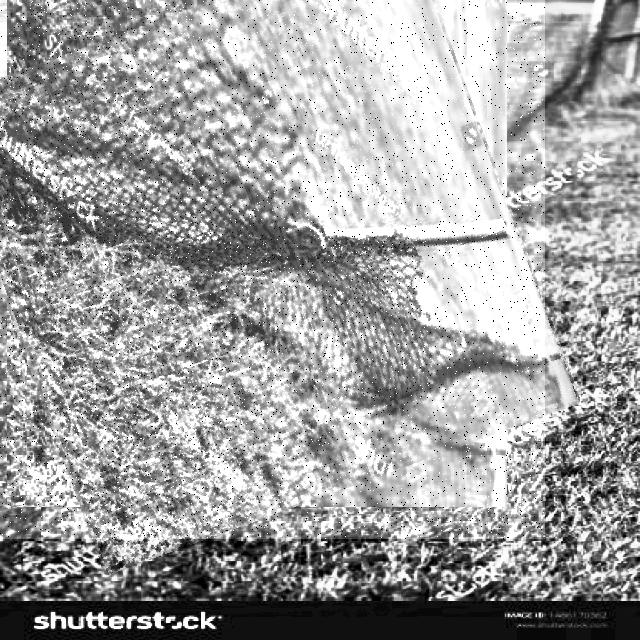anomaly-fence: (0, 0, 545, 539)
